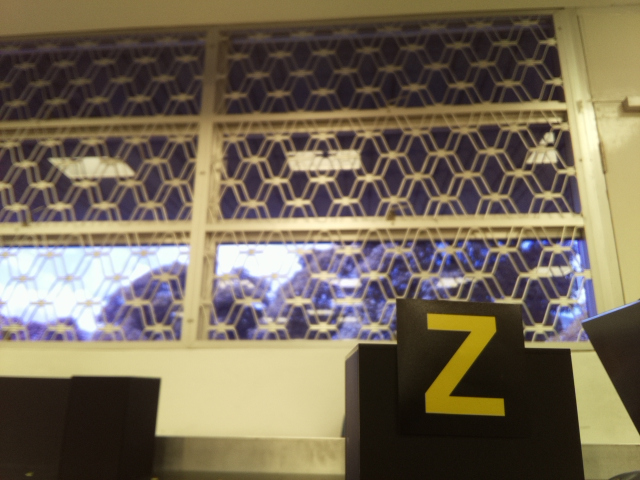z: (419, 310, 511, 423)
